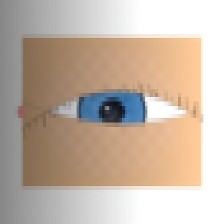pinguecula_lesion: (26, 96, 57, 121)
